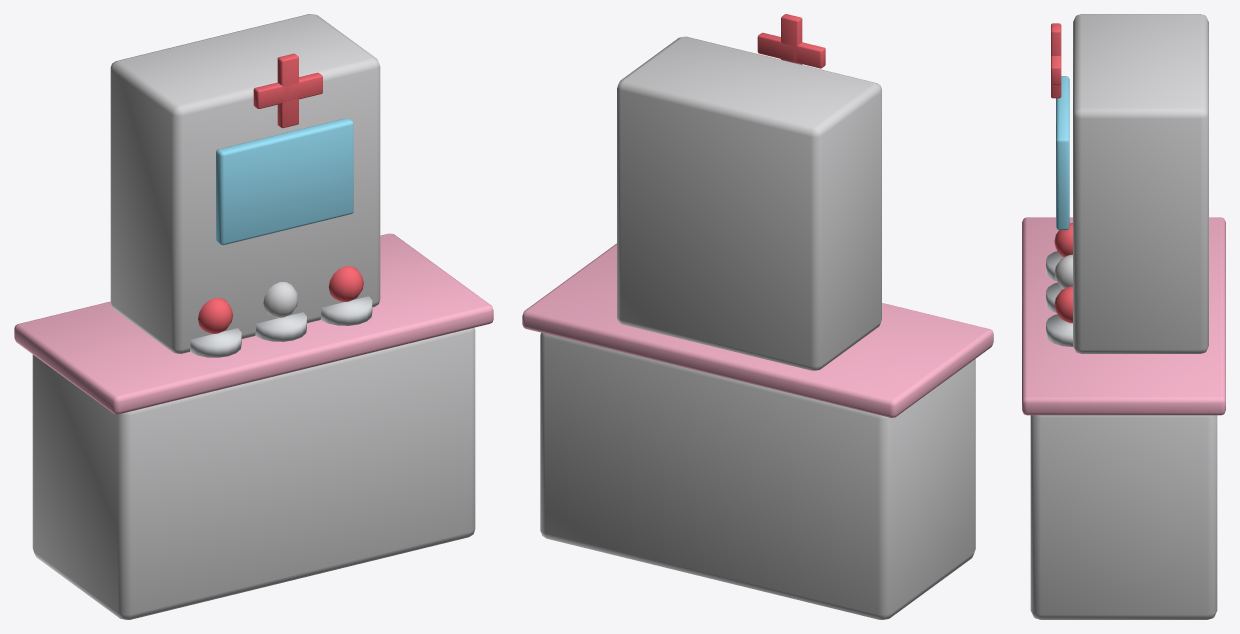
File: heal_machine.glb
The picture shows the model from 3 angles, left to right: view 1: azimuth 30°, elevation 25°; view 2: azimuth 150°, elevation 25°; view 3: azimuth 270°, elevation 25°; orthographic projection.
Parts seen in each view (by area): view 1: Counter, Machine, CounterTop, Screen, Plus_H, Plus_V, Dish_2, Dish_0, Dish_1, Ball_1, Ball_0, Ball_2; view 2: Counter, Machine, CounterTop, Plus_H, Plus_V; view 3: Machine, Counter, CounterTop, Screen, Dish_2, Ball_2, Plus_V, Ball_1, Ball_0, Plus_H, Dish_1, Dish_0.
Boxes of the visible parts, <box> form: Counter: <box>32,327,475,619</box>; Machine: <box>110,14,380,353</box>; CounterTop: <box>14,233,493,414</box>; Screen: <box>216,118,353,245</box>; Plus_H: <box>253,72,322,108</box>; Plus_V: <box>277,53,298,128</box>; Dish_2: <box>320,296,372,325</box>; Dish_0: <box>190,328,241,357</box>; Dish_1: <box>255,312,306,341</box>; Ball_1: <box>263,282,298,317</box>; Ball_0: <box>198,298,233,333</box>; Ball_2: <box>328,266,363,301</box>; Counter: <box>540,332,975,619</box>; Machine: <box>617,36,881,370</box>; CounterTop: <box>522,243,993,417</box>; Plus_H: <box>757,32,825,68</box>; Plus_V: <box>781,14,802,64</box>; Machine: <box>1073,14,1208,353</box>; Counter: <box>1030,415,1217,619</box>; CounterTop: <box>1022,217,1225,415</box>; Screen: <box>1056,76,1069,230</box>; Dish_2: <box>1046,314,1073,346</box>; Ball_2: <box>1054,286,1072,323</box>; Plus_V: <box>1051,23,1061,98</box>; Ball_1: <box>1054,254,1072,288</box>; Ball_0: <box>1054,223,1072,257</box>; Plus_H: <box>1051,56,1061,85</box>; Dish_1: <box>1046,282,1063,312</box>; Dish_0: <box>1046,251,1063,281</box>.
Bounding box in the file's own units: 1.28 × 1.66 × 0.6.
